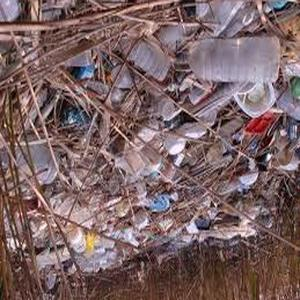Plastic: (179, 33, 282, 83), (132, 40, 168, 83)
